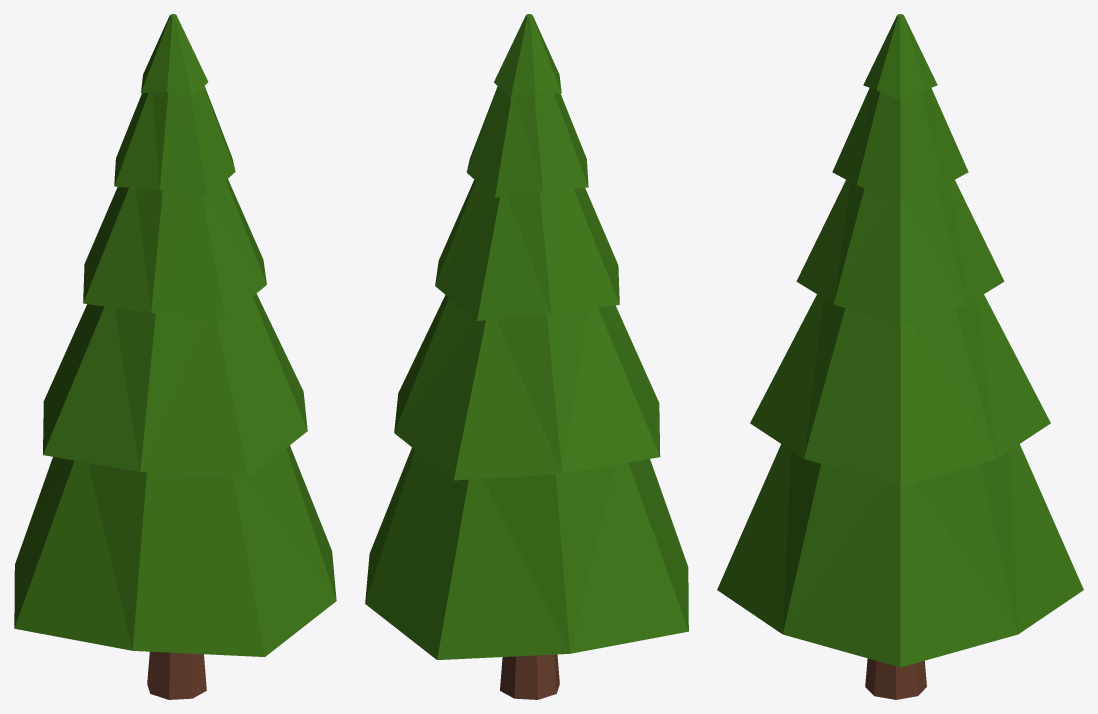
Rendered from pine.dae.
The picture shows the model from 3 angles, left to right: view 1: azimuth 30°, elevation 25°; view 2: azimuth 150°, elevation 25°; view 3: azimuth 270°, elevation 25°; orthographic projection.
Parts seen in each view (by area): view 1: Cylinder; view 2: Cylinder; view 3: Cylinder.
Part boxes in pixels (left/top/right/bottom): Cylinder: left=14, top=14, right=336, bottom=699; Cylinder: left=365, top=14, right=688, bottom=699; Cylinder: left=717, top=14, right=1083, bottom=699.
Bounding box in the file's own units: 3.25 × 6.55 × 3.25.
